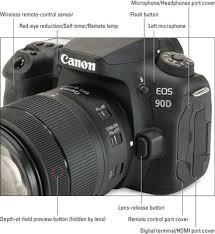camera: (1, 36, 210, 196)
